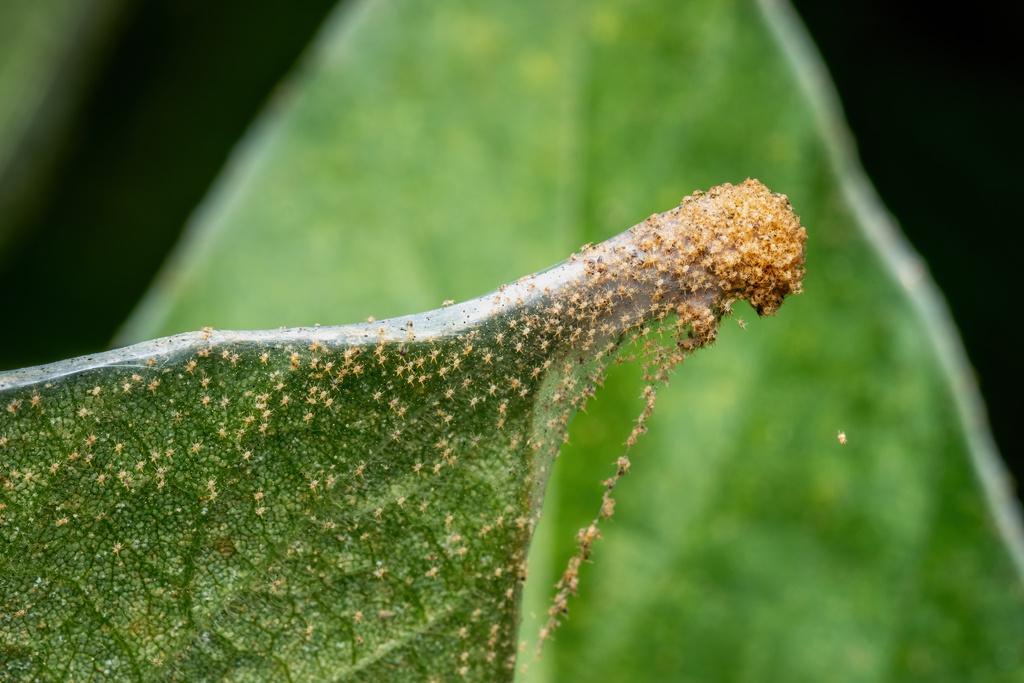tiny_pests: (665, 143, 814, 333), (539, 261, 621, 366), (285, 321, 368, 407), (398, 315, 474, 405)
